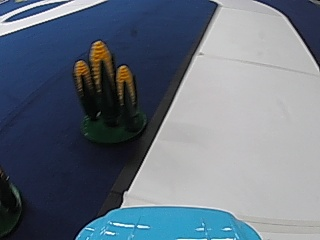corn: (72, 40, 146, 144)
